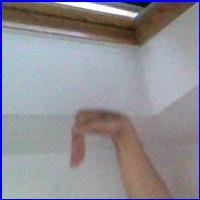del: (65, 109, 141, 173)
